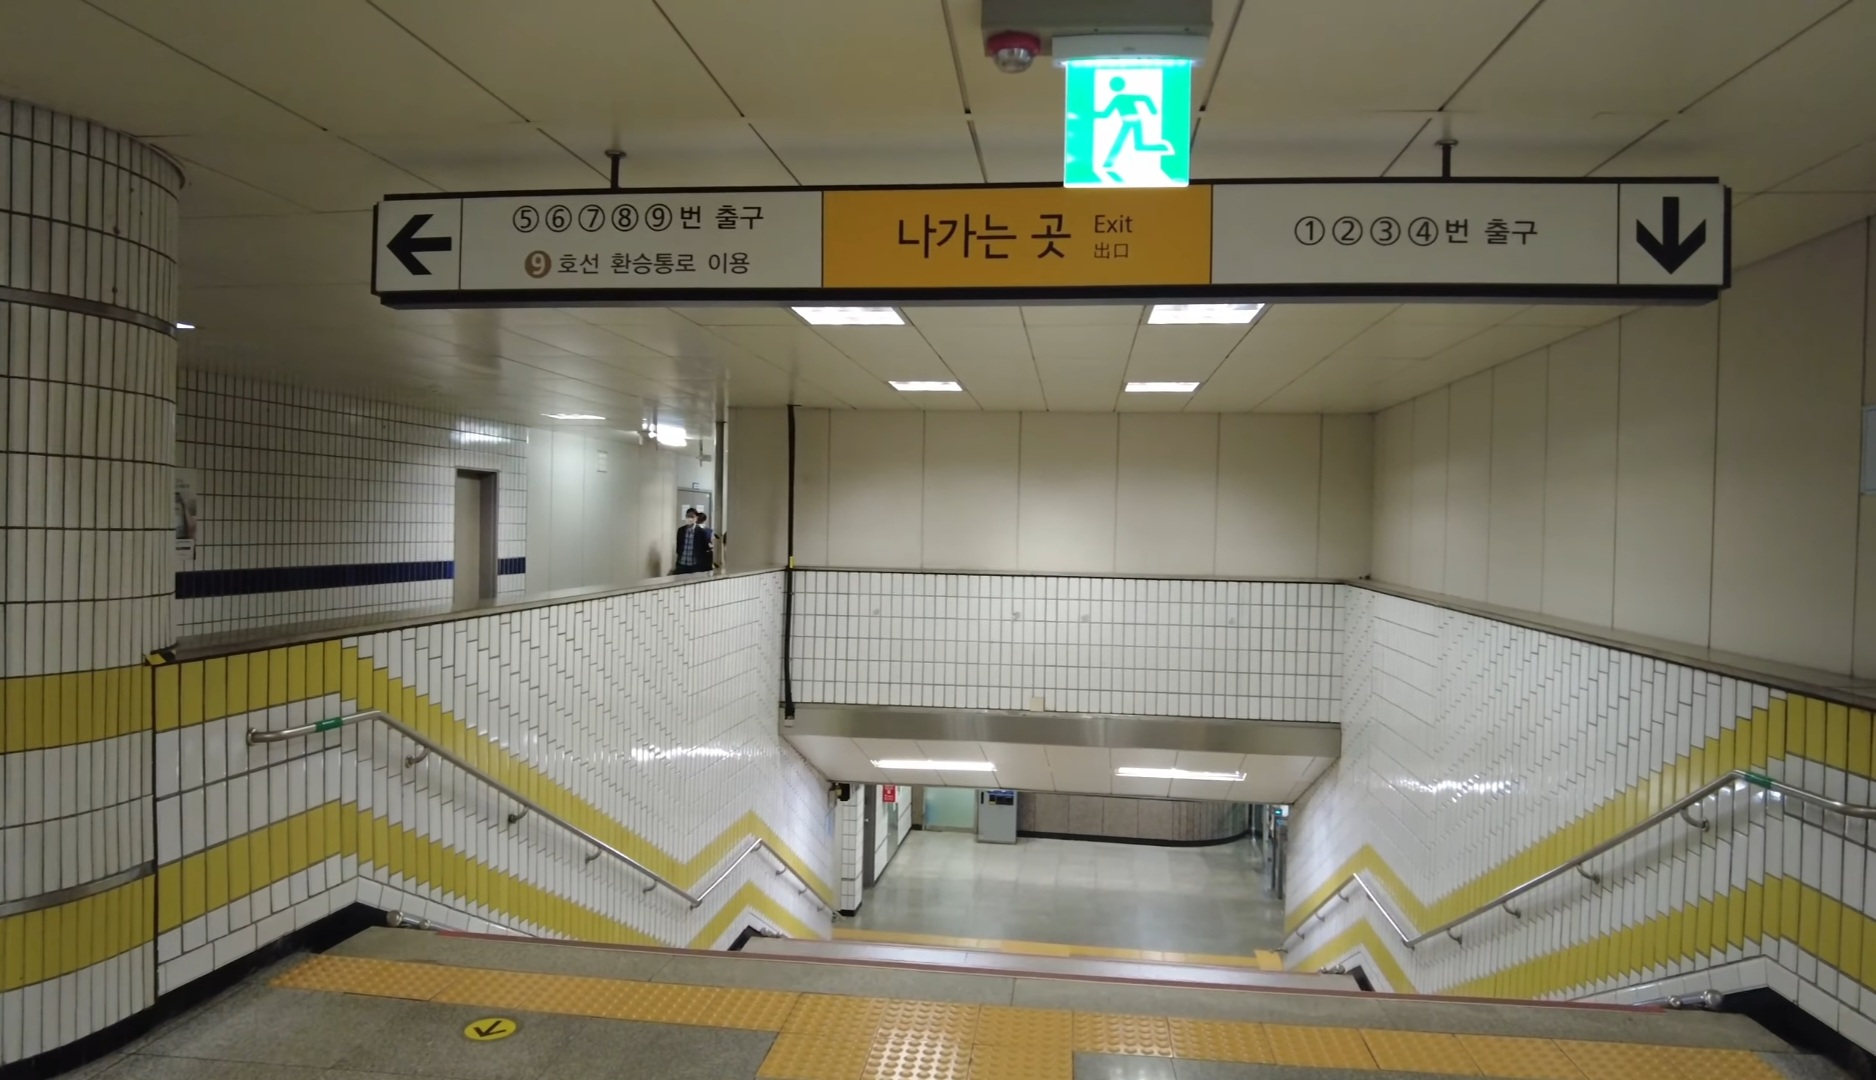signBoard: (348, 164, 1741, 303)
